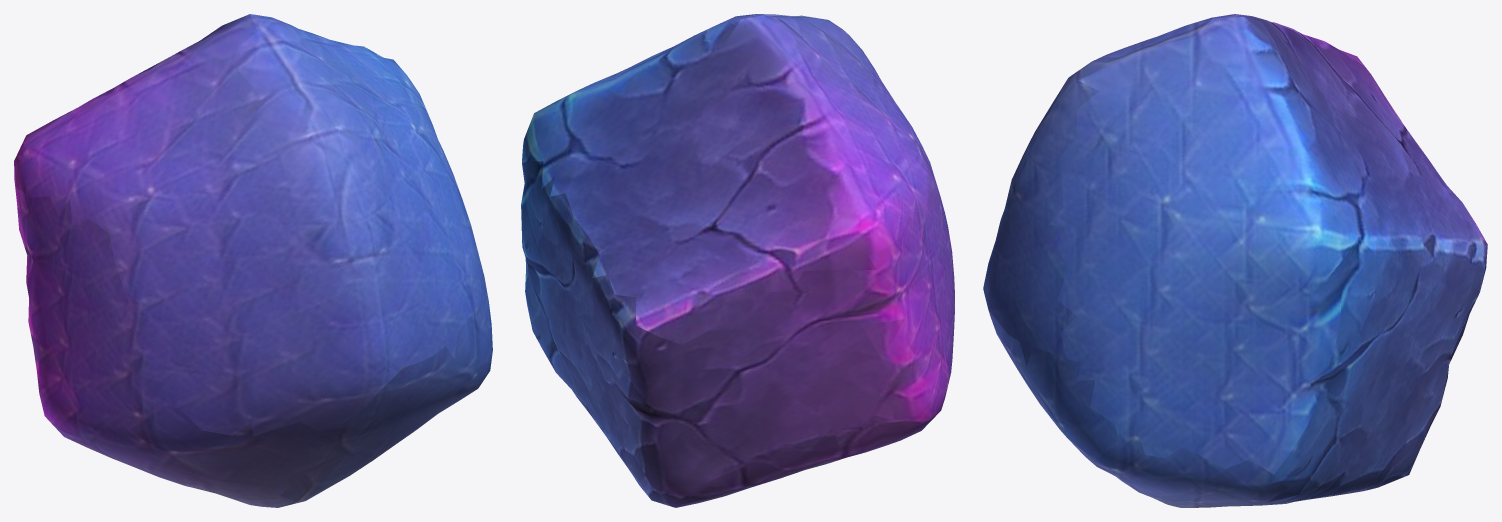
File: stone-v4.glb
3 views of the same model, side by side, from view 1: azimuth 30°, elevation 25°; view 2: azimuth 150°, elevation 25°; view 3: azimuth 270°, elevation 25° (orthographic). The views are drawn at different scales.
Visible parts, largest first — view 1: world; view 2: world; view 3: world.
Part boxes in pixels (x1,y1,x2,y2): world: [14, 14, 492, 507]; world: [521, 14, 954, 507]; world: [983, 14, 1487, 507].
Bounding box in the file's own units: 0.8188 × 0.9157 × 0.8652.
Materials: 1 (1 with a texture image).
